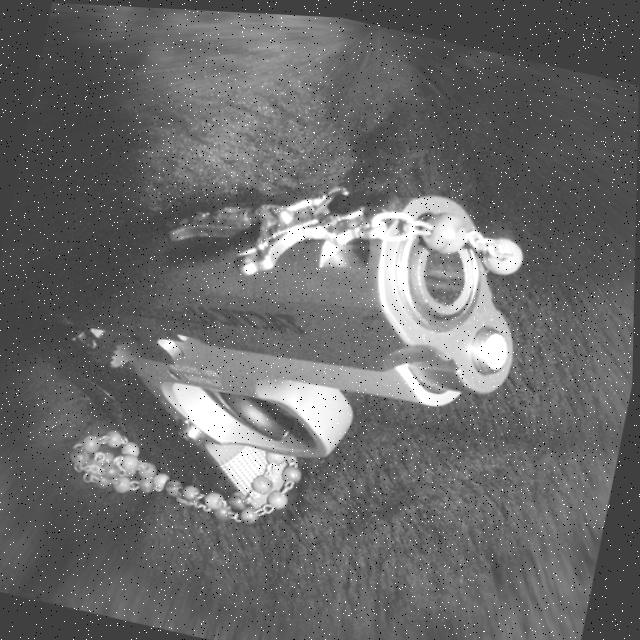pistol: (14, 108, 544, 557)
